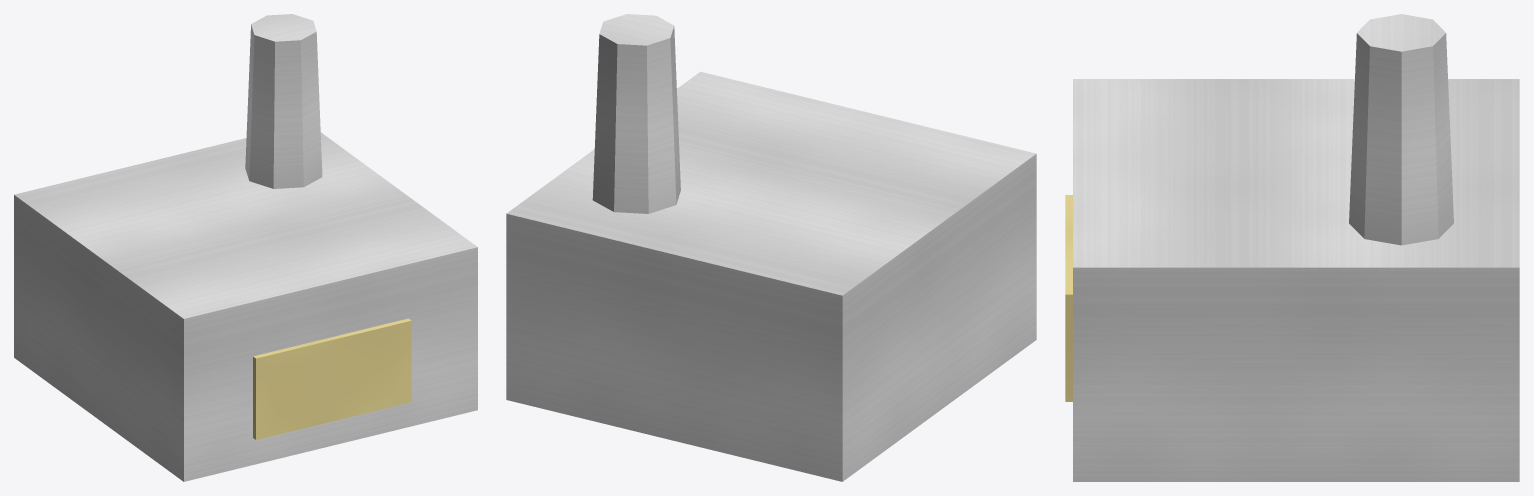
Rendered from wood_fired_generator.obj.
The picture shows the model from 3 angles, left to right: view 1: azimuth 30°, elevation 25°; view 2: azimuth 150°, elevation 25°; view 3: azimuth 270°, elevation 25°; orthographic projection. The views are drawn at different scales.
Visible parts, largest first — view 1: wood_fired_generator; view 2: wood_fired_generator; view 3: wood_fired_generator.
Boxes of the visible parts, box(x1,y1,x2,y2) form: wood_fired_generator: box(14, 14, 477, 481); wood_fired_generator: box(506, 14, 1036, 481); wood_fired_generator: box(1065, 14, 1519, 481).
Bounding box in the file's own units: 1.7 × 1.7 × 1.73.
